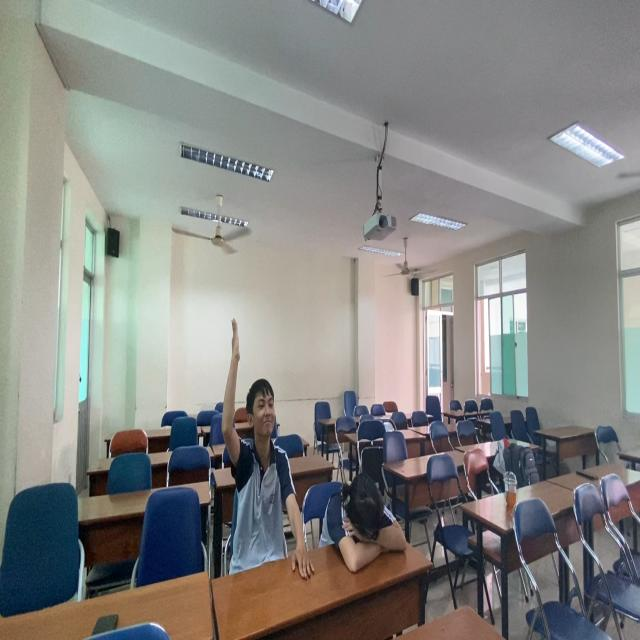raise_hand: (220, 314, 298, 563)
sleep: (324, 468, 414, 586)
